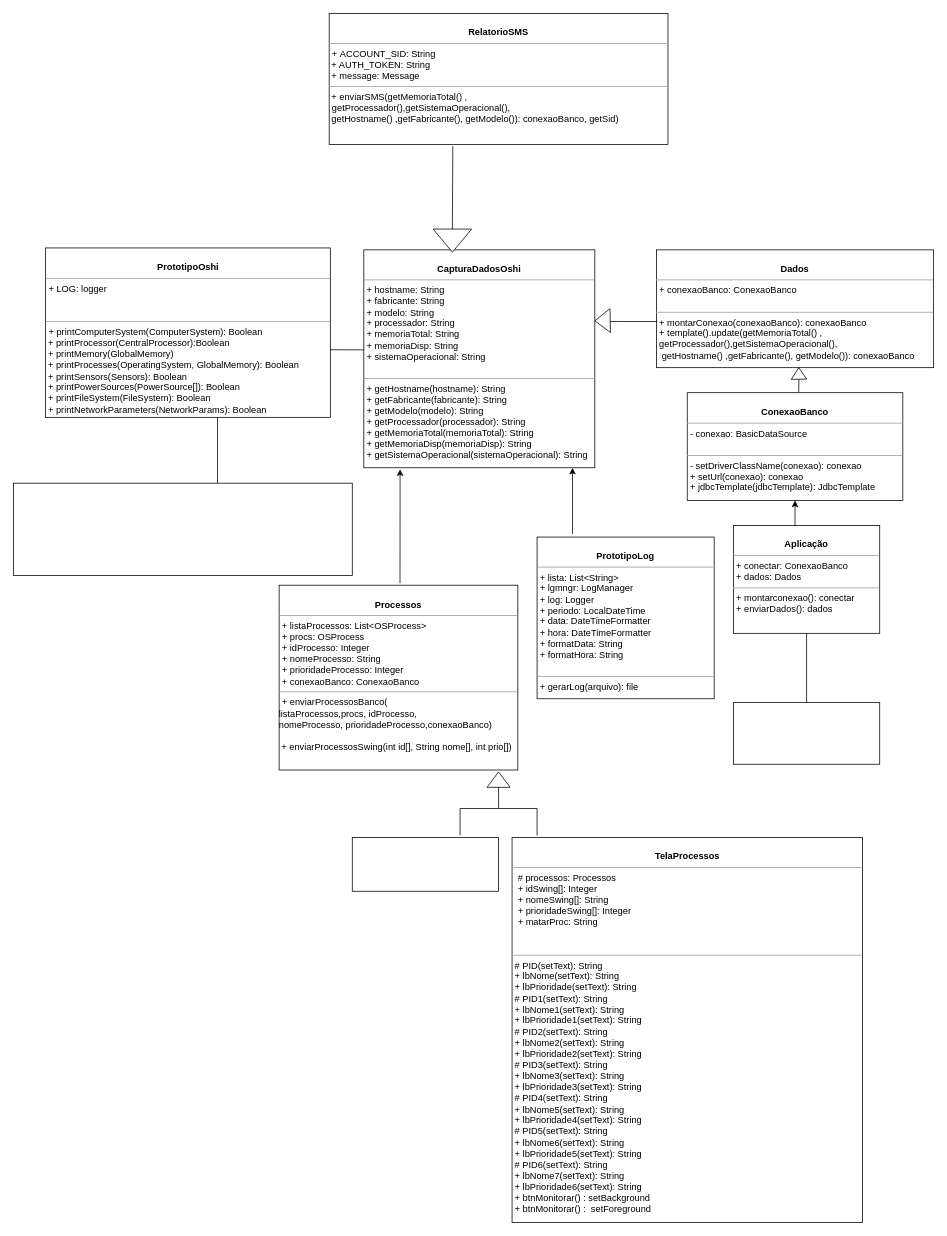
Some shapes in this 947 by 1236 pixel diagram are drawn without their labels. The shapes that lost their labels are listed below. From the top down, each one's centre as x and y in pixels, then its label:
the point at 182,529: TesteLog + obj: PrototipoLog + gerarlog(obj): String
the point at 806,733: ExecutarAplicacao + main(executar):Aplicacao
the point at 425,864: MatarProcessos + kill(String processo): Boolean
